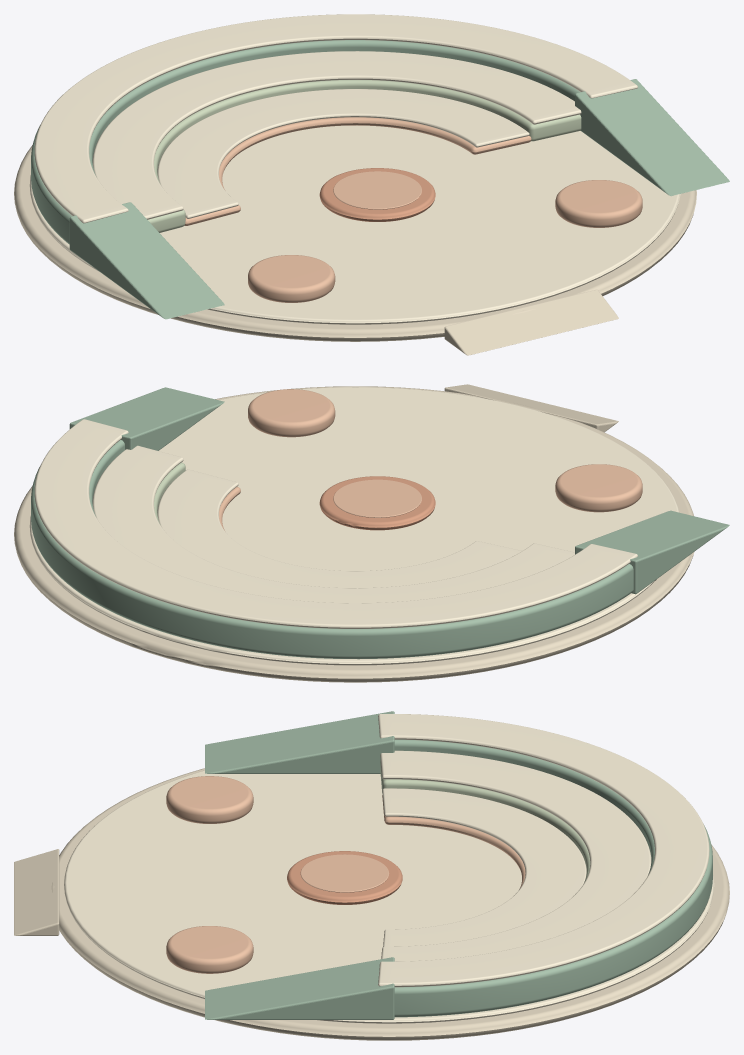
Rendered from public_forum.glb.
The picture shows the model from 3 angles, top to bottom: view 1: azimuth 30°, elevation 25°; view 2: azimuth 150°, elevation 25°; view 3: azimuth 270°, elevation 25°; orthographic projection.
Visible parts, largest first — view 1: Forum | inner speaking floor, Forum | outer tier seat surface, Forum | middle tier seat surface, Forum | inner tier seat surface, Forum | circular foundation, Forum | west tier access ramp, Forum | east tier access ramp, Forum | outer tier base, Forum | main entry ramp, Forum | middle tier base, Forum | waiting perch 1, Forum | waiting perch 0 (+3 smaller); view 2: Forum | inner speaking floor, Forum | outer tier seat surface, Forum | outer tier base, Forum | circular foundation, Forum | middle tier seat surface, Forum | inner tier seat surface, Forum | west tier access ramp, Forum | east tier access ramp, Forum | waiting perch 1, Forum | waiting perch 0, Forum | speaker disc inset, Forum | speaker disc (+1 smaller); view 3: Forum | inner speaking floor, Forum | outer tier seat surface, Forum | middle tier seat surface, Forum | circular foundation, Forum | outer tier base, Forum | inner tier seat surface, Forum | east tier access ramp, Forum | west tier access ramp, Forum | main entry ramp, Forum | waiting perch 0, Forum | waiting perch 1, Forum | speaker disc inset (+3 smaller).
Part boxes in pixels (bbox=[...]): Forum | inner speaking floor: bbox=[29, 125, 680, 324]; Forum | outer tier seat surface: bbox=[34, 14, 637, 223]; Forum | middle tier seat surface: bbox=[92, 51, 581, 219]; Forum | inner tier seat surface: bbox=[157, 89, 529, 218]; Forum | circular foundation: bbox=[14, 145, 696, 341]; Forum | west tier access ramp: bbox=[69, 202, 224, 319]; Forum | east tier access ramp: bbox=[575, 79, 729, 195]; Forum | outer tier base: bbox=[31, 40, 580, 244]; Forum | main entry ramp: bbox=[444, 289, 618, 355]; Forum | middle tier base: bbox=[148, 80, 581, 232]; Forum | waiting perch 1: bbox=[555, 180, 642, 227]; Forum | waiting perch 0: bbox=[248, 255, 335, 302]; Forum | inner speaking floor: bbox=[29, 387, 679, 665]; Forum | outer tier seat surface: bbox=[34, 419, 637, 628]; Forum | outer tier base: bbox=[31, 440, 633, 659]; Forum | circular foundation: bbox=[14, 386, 694, 682]; Forum | middle tier seat surface: bbox=[92, 445, 574, 603]; Forum | inner tier seat surface: bbox=[157, 469, 521, 588]; Forum | west tier access ramp: bbox=[575, 510, 729, 594]; Forum | east tier access ramp: bbox=[69, 387, 224, 450]; Forum | waiting perch 1: bbox=[248, 389, 335, 437]; Forum | waiting perch 0: bbox=[555, 464, 642, 512]; Forum | speaker disc inset: bbox=[333, 479, 421, 517]; Forum | speaker disc: bbox=[319, 476, 435, 530]; Forum | inner speaking floor: bbox=[64, 770, 714, 1023]; Forum | outer tier seat surface: bbox=[378, 713, 709, 987]; Forum | middle tier seat surface: bbox=[380, 750, 651, 961]; Forum | circular foundation: bbox=[51, 768, 729, 1040]; Forum | outer tier base: bbox=[394, 739, 712, 1017]; Forum | inner tier seat surface: bbox=[382, 788, 586, 946]; Forum | east tier access ramp: bbox=[205, 957, 394, 1019]; Forum | west tier access ramp: bbox=[205, 711, 394, 773]; Forum | main entry ramp: bbox=[14, 849, 59, 935]; Forum | waiting perch 0: bbox=[166, 776, 253, 823]; Forum | waiting perch 1: bbox=[166, 926, 253, 973]; Forum | speaker disc inset: bbox=[300, 854, 389, 892].
Bounding box in the file's own units: 10 × 0.82 × 10.5.
